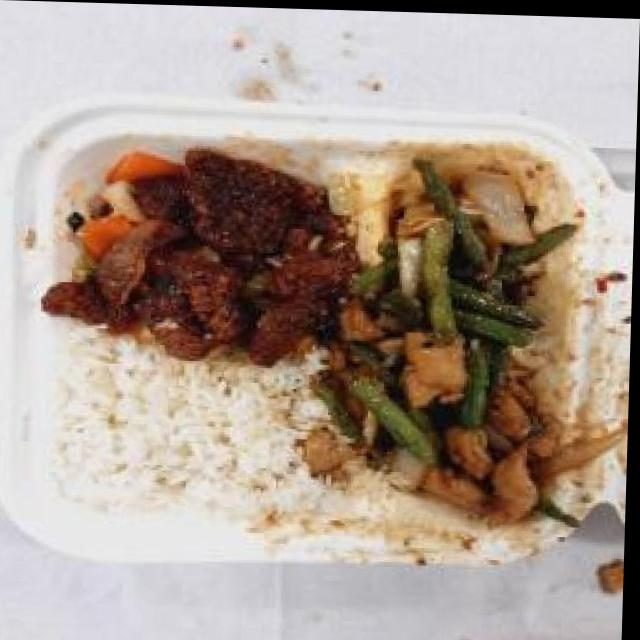Beijing Beef: (62, 137, 352, 361)
String Bean Chicken Breast: (333, 153, 572, 521)
White Steamed Rice: (56, 350, 310, 520)
